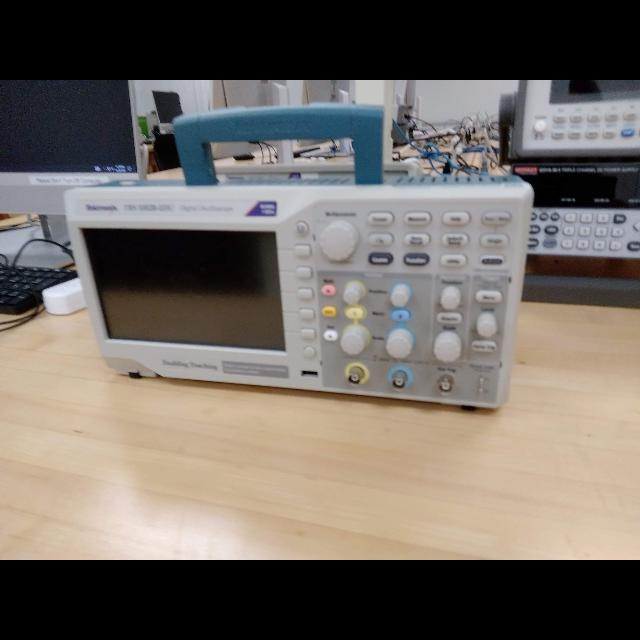Digital-Oscilloscope: (65, 188, 531, 405)
